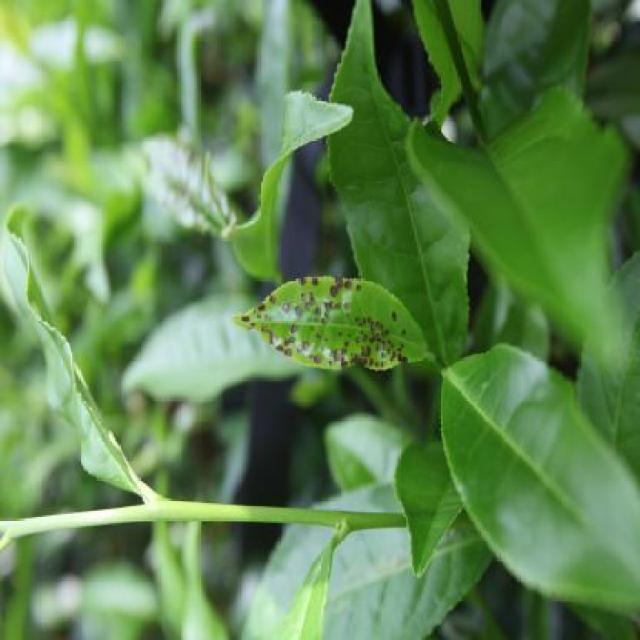Tea Mosquito bug infested leaf: (228, 266, 442, 379)
